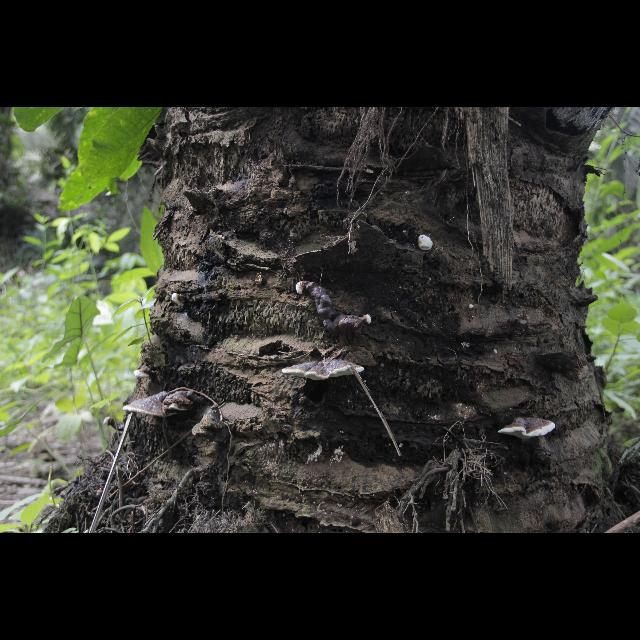ganoderma: (309, 282, 363, 338), (283, 360, 366, 383), (124, 393, 177, 420), (498, 417, 556, 441), (163, 392, 203, 413), (134, 369, 158, 379)
primordium: (419, 236, 435, 253), (173, 294, 188, 309), (297, 282, 309, 297), (103, 417, 115, 428), (364, 316, 373, 327), (470, 305, 475, 311)
